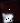dent: (1, 0, 20, 23)
